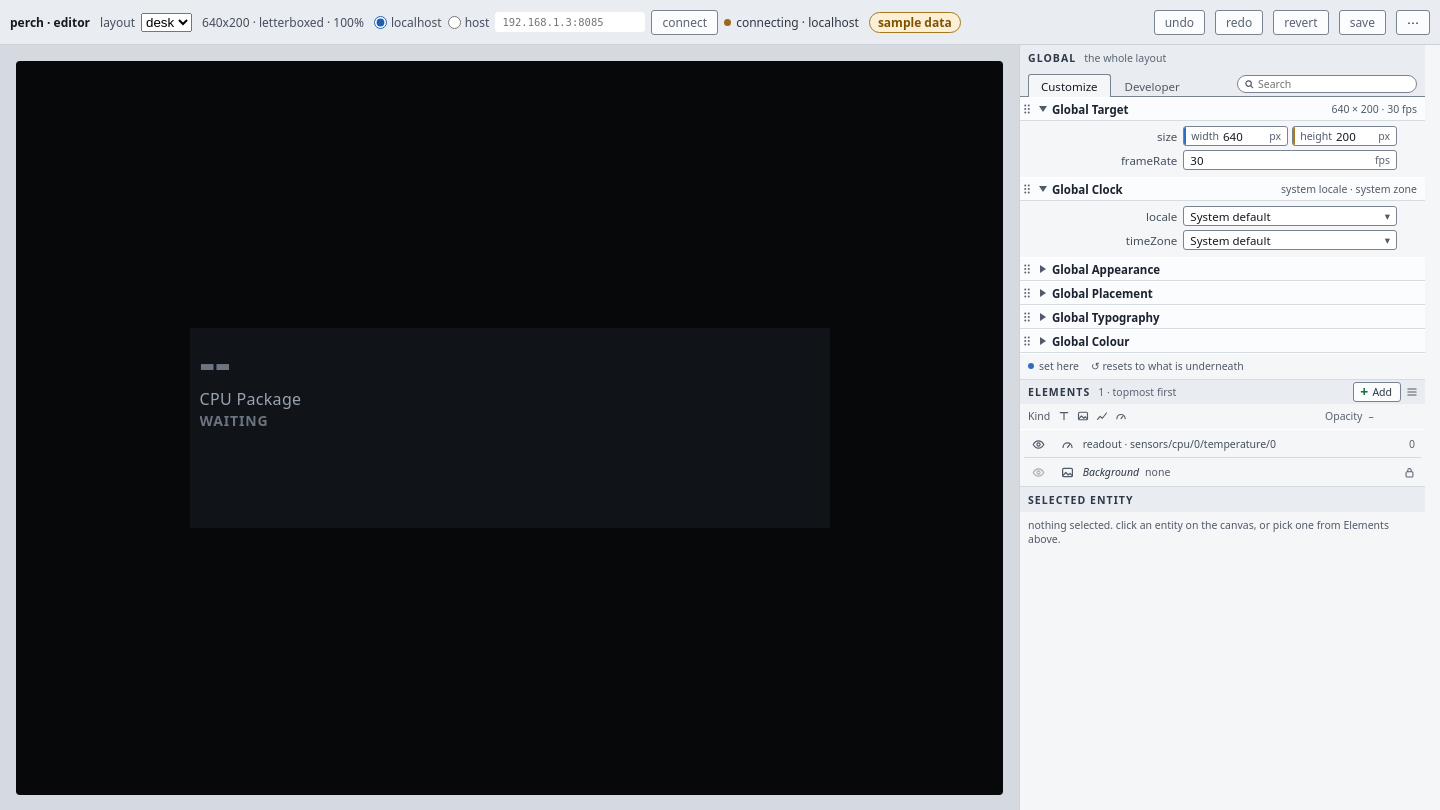
Test case: the connection control › goes back to localhost the moment its radio is picked, with no button
Click the radio button labelled "host" at (454, 22), box [448, 16, 461, 28]
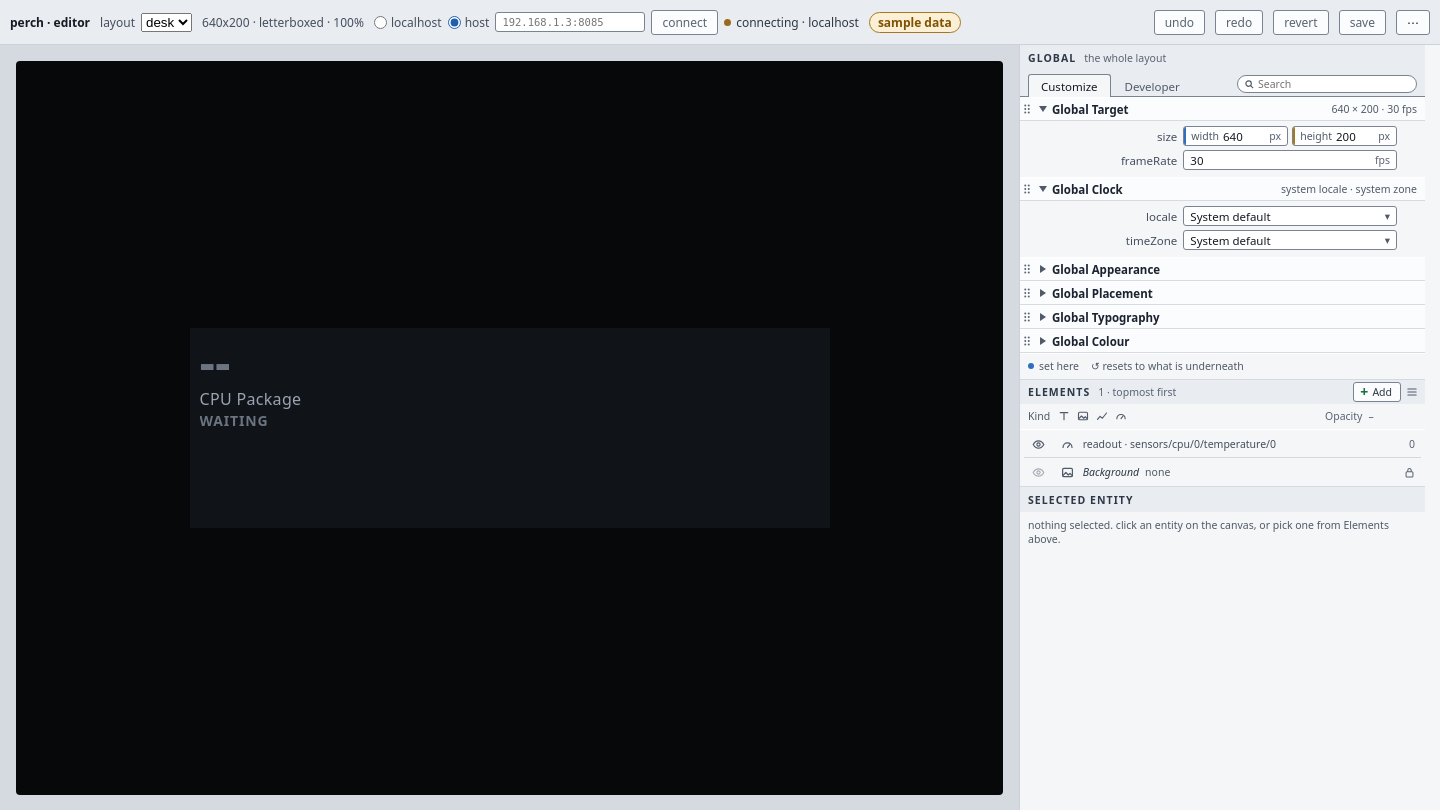
Type "192.168.1.3:9000" into the field named "sensor host" at (570, 22), box [495, 12, 645, 32]
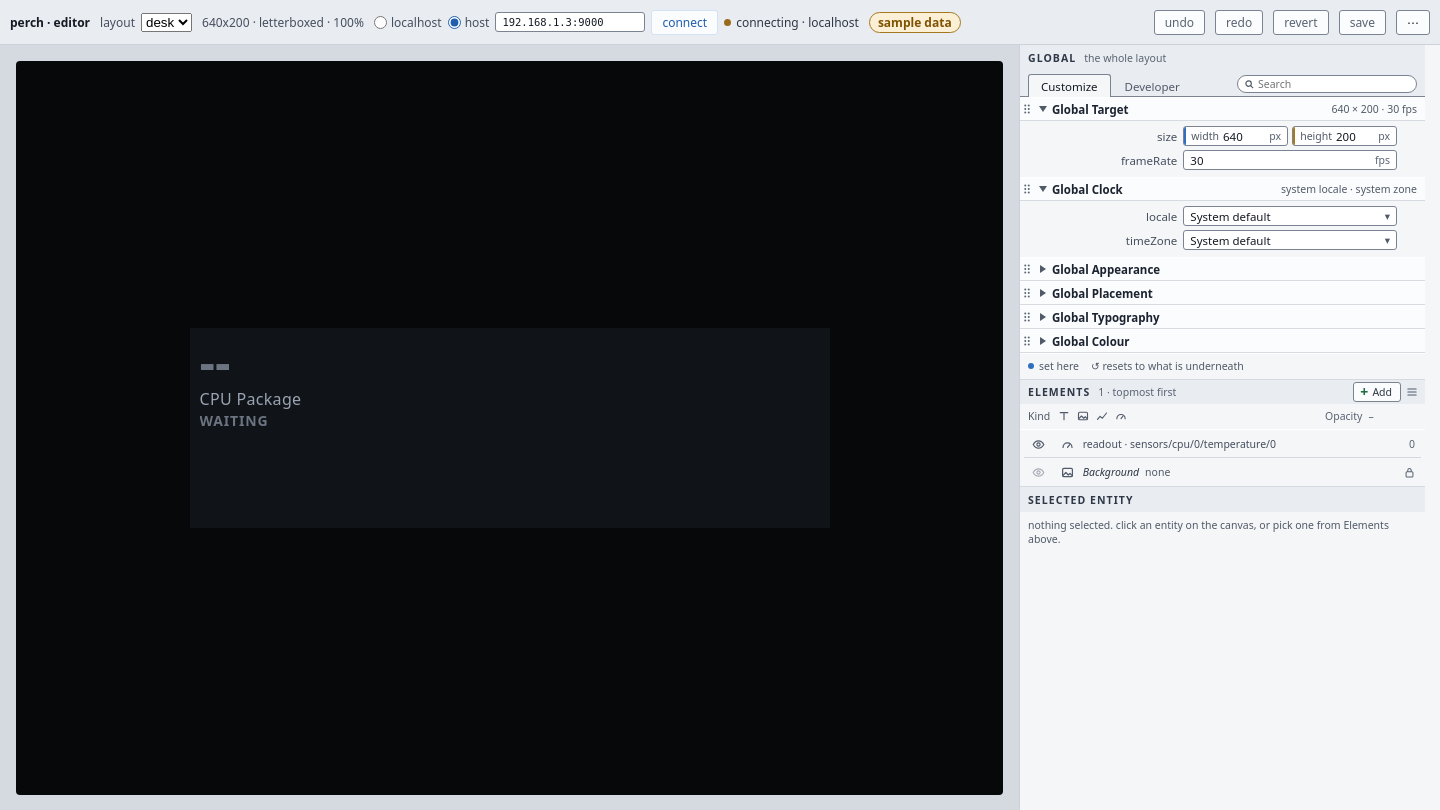
Click the button "connect" at (685, 22), box [651, 10, 718, 34]
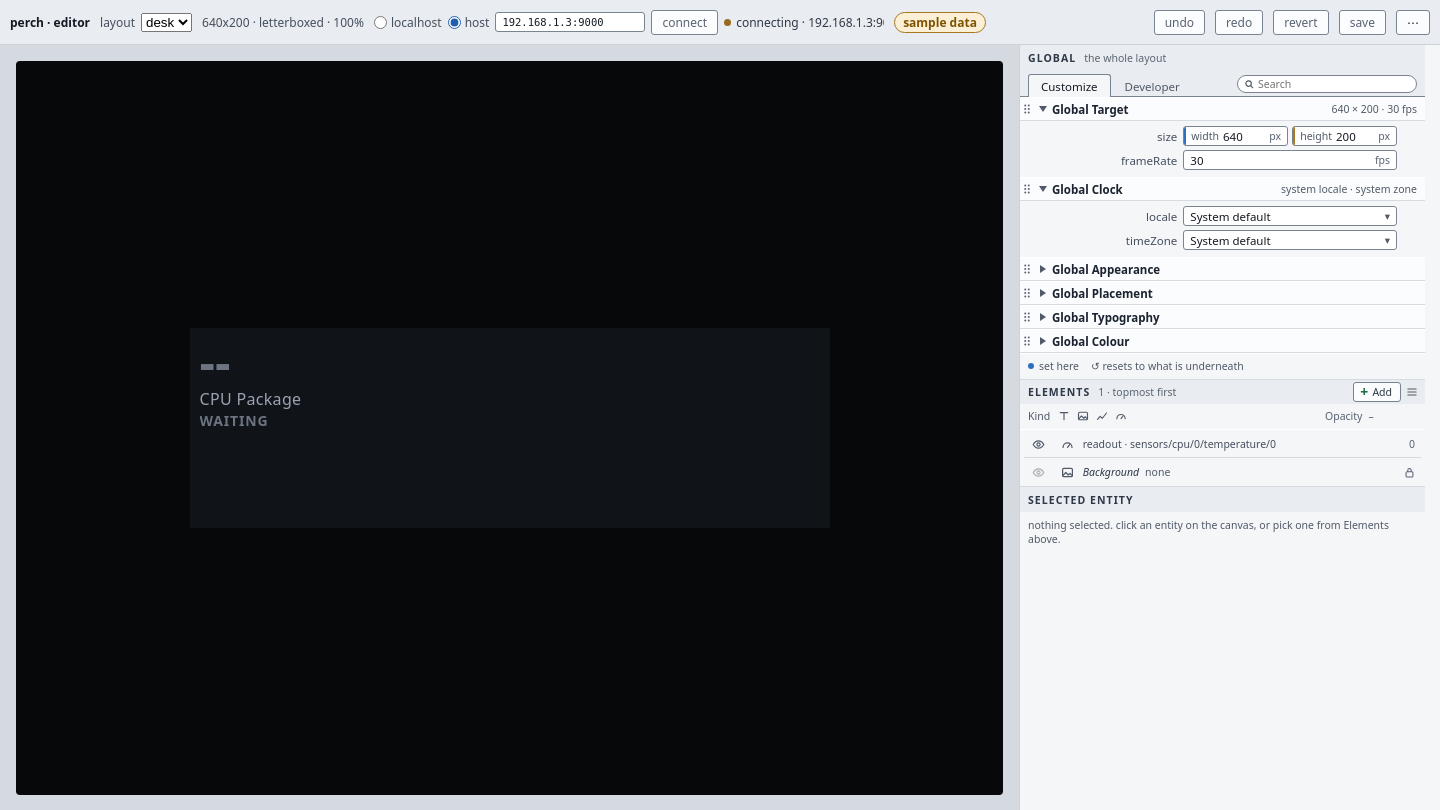
Click the radio button labelled "localhost" at (380, 22), box [374, 16, 387, 28]
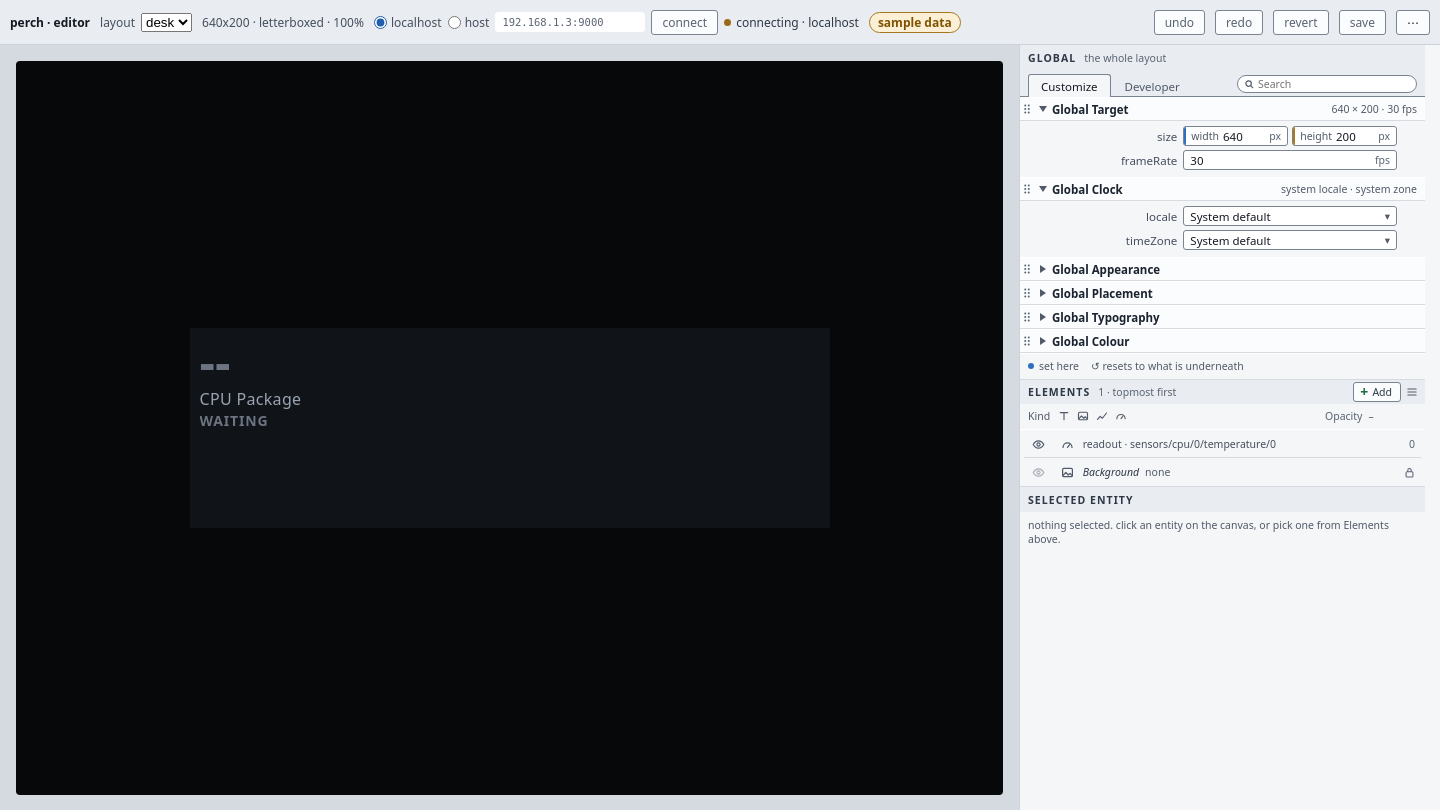
Now the button "connect" is disabled, box [651, 10, 718, 34]
Now the field named "sensor host" is disabled, box [495, 12, 645, 32]
